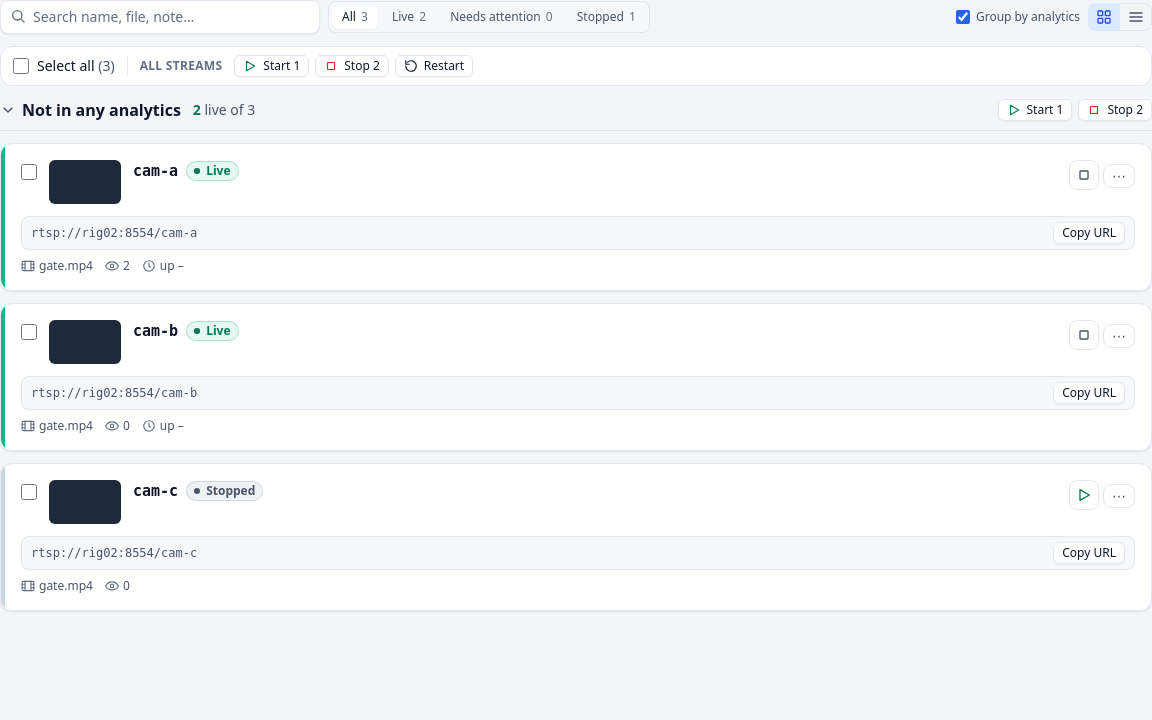
Test case: Streams bulk controls › stops every live stream shown after a confirm that warns about readers
Later steps or results of the test are not shown.
Click the button "Stop 2" in the row of "All streams": (352, 66) top-left (315, 55), bottom-right (389, 77)
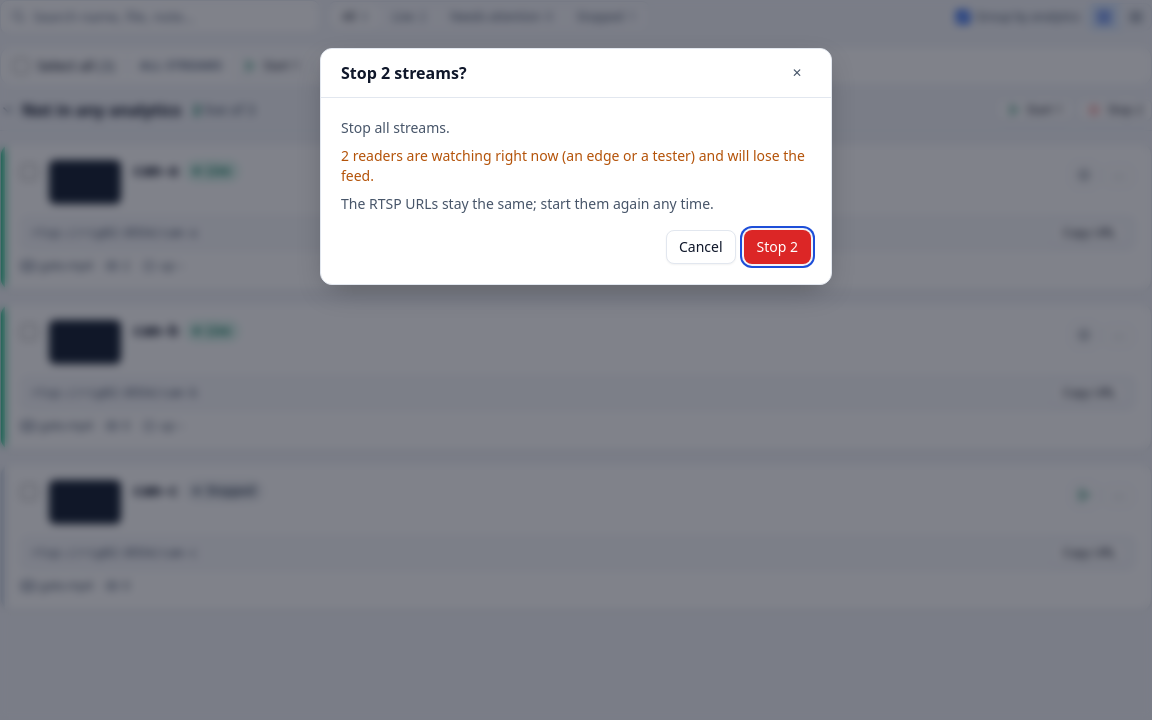
expect the dialog shows "2 readers are watching right now": met, box top-left (320, 48), bottom-right (832, 285)
